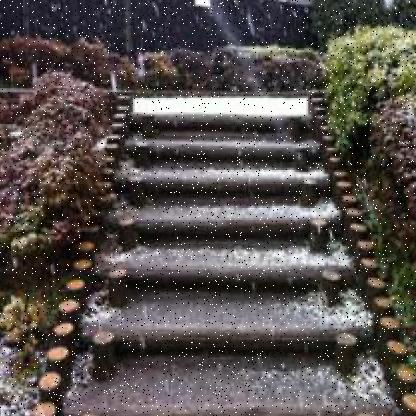stair_up: (83, 261, 368, 414)
